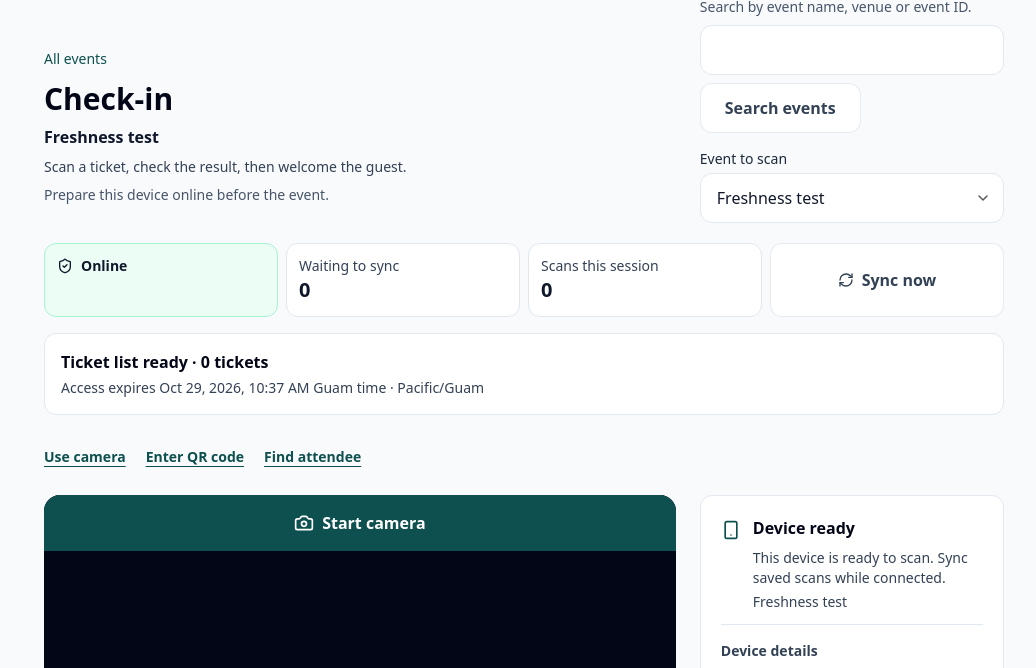
Test: online unknown credential recovery › preserves an empty journal and refuses entry when refresh fails: 403
Click the heading "Device details". click: (769, 650)
box: [721,641,818,660]
(page scrolled)
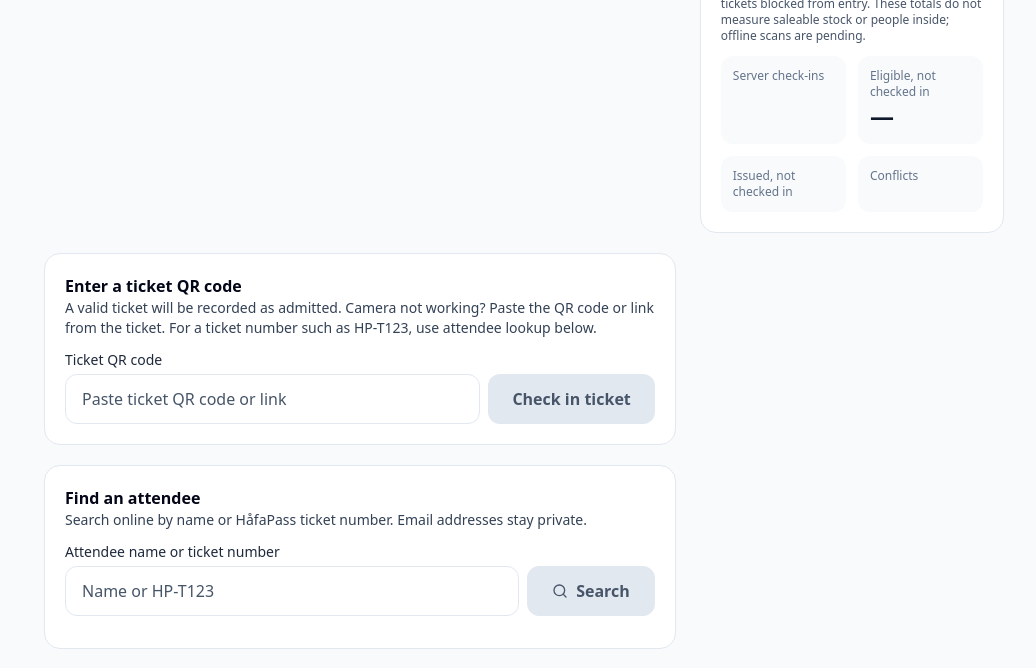
Type "current-unfamiliar-credential" into the field labelled "Ticket QR code". click: (273, 399)
box: [65,374,480,424]
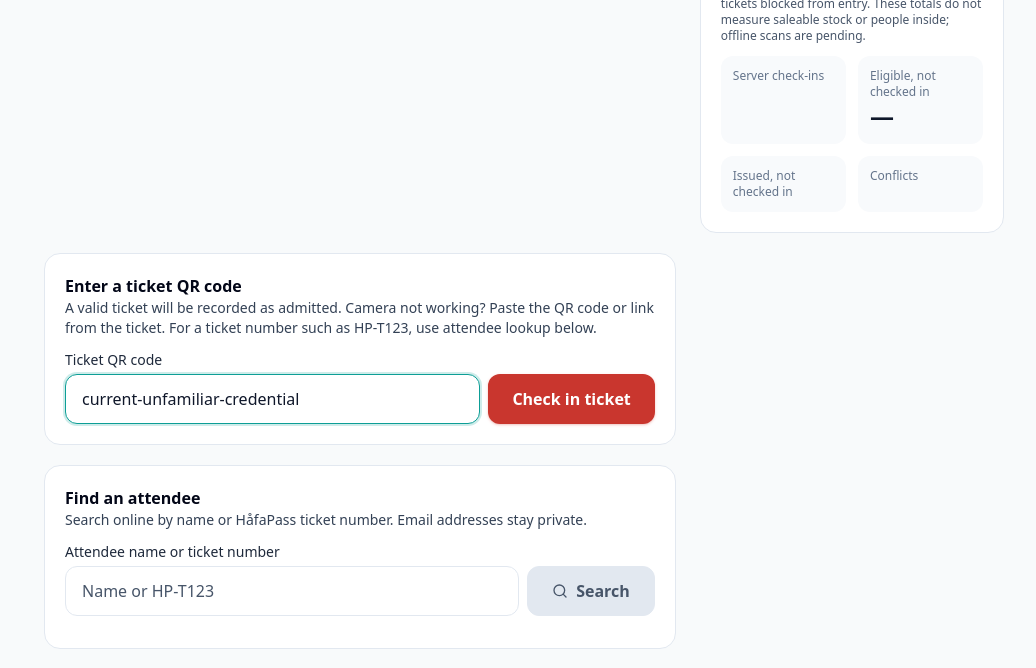
Click the button "Check in ticket". click: (572, 399)
box: [488,374,655,424]
(page scrolled)
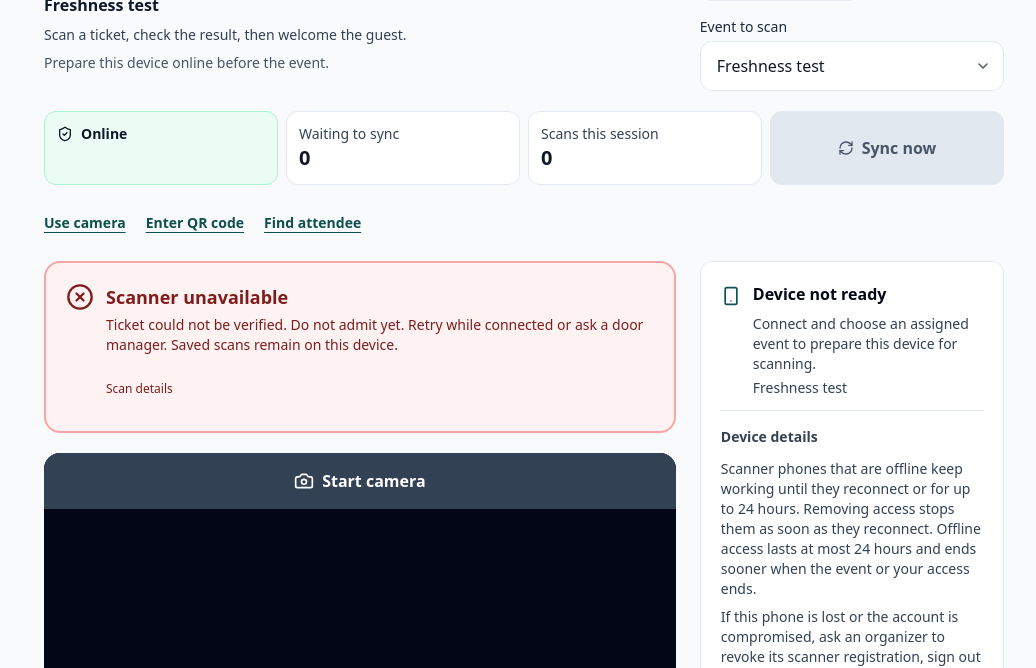
expect the text "Scanner unavailable" is shown: met, box [106,285,288,309]
